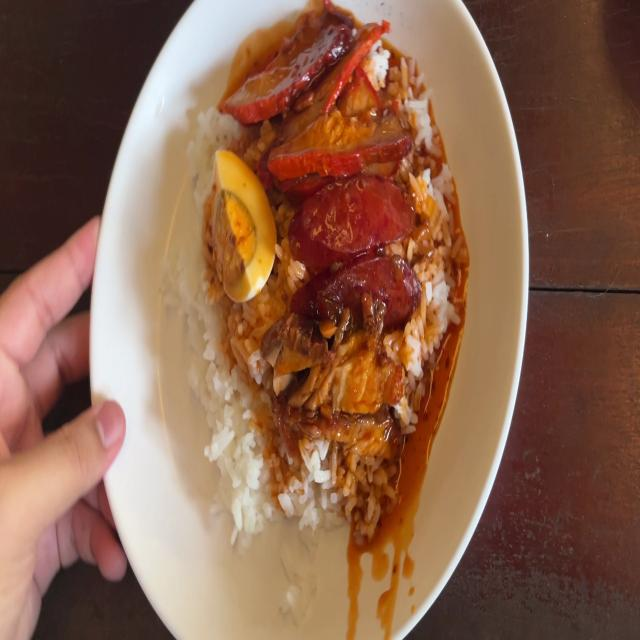01boiled_egg: (216, 154, 264, 300)
01chainese_sausage: (297, 173, 420, 320)
01crispy_pork: (268, 308, 388, 453)
01red_pork: (220, 21, 393, 138), (263, 34, 402, 168)
01red_pork_and_crispy_pork: (180, 46, 448, 526)
01rice: (180, 121, 224, 445), (213, 301, 267, 545), (398, 326, 428, 421)
